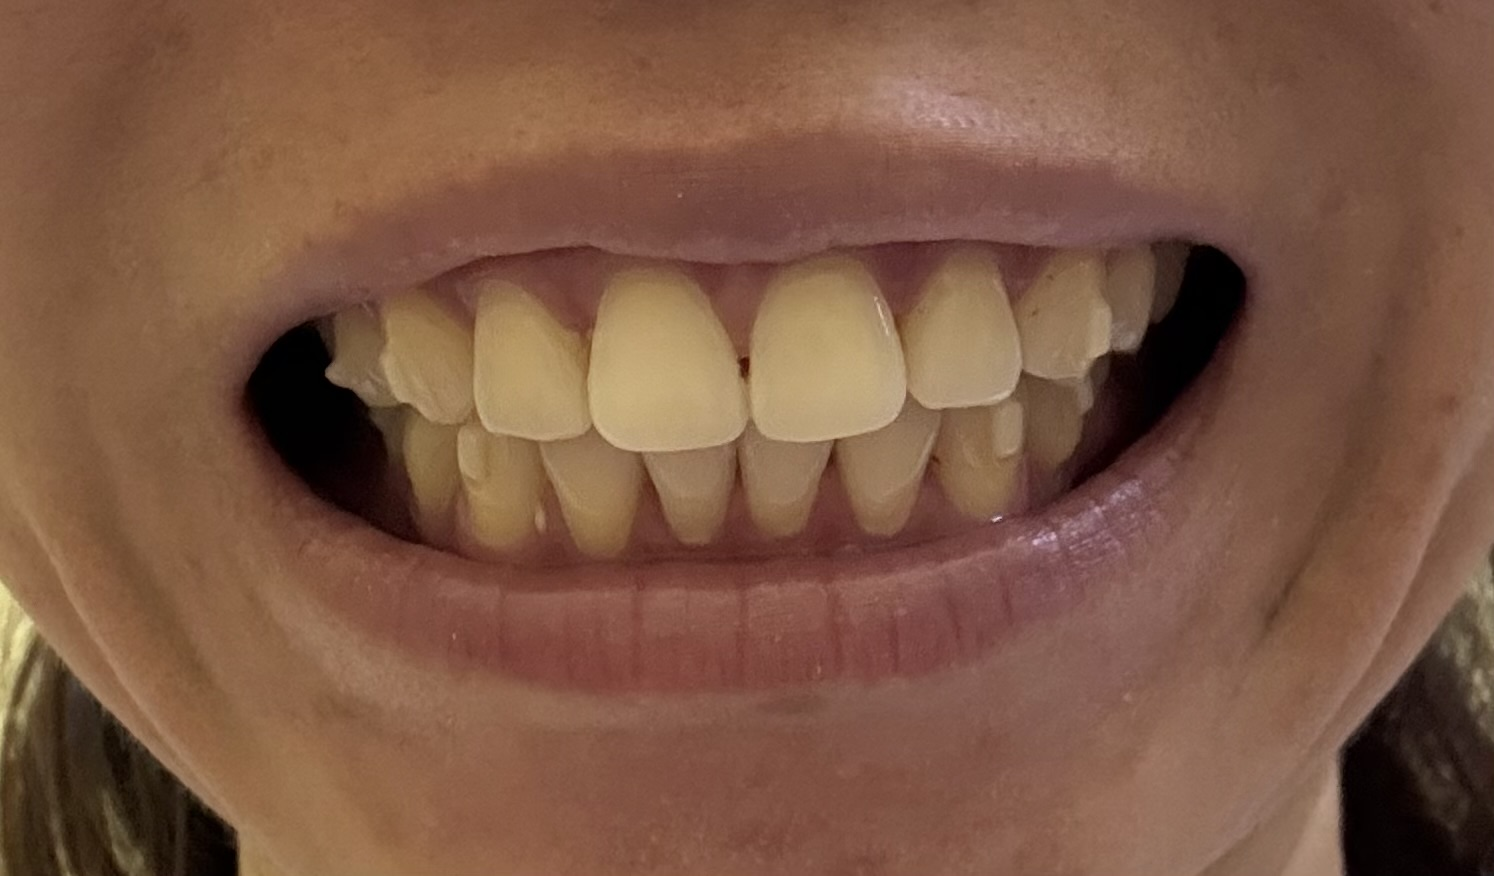teeth: (751, 252, 906, 440), (589, 265, 739, 449), (910, 240, 1020, 405), (472, 281, 582, 437), (847, 415, 939, 536), (544, 436, 632, 552), (1023, 257, 1107, 370), (387, 293, 464, 415), (463, 428, 534, 540), (645, 447, 732, 536), (950, 408, 1019, 516), (748, 439, 823, 533), (1031, 383, 1085, 469), (409, 414, 458, 506), (337, 316, 387, 396)
